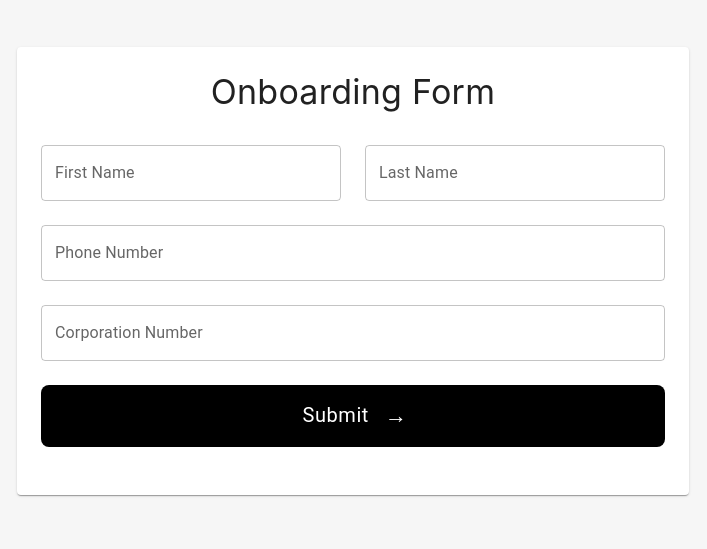
Scenario: OnboardingForm › shows validation errors for empty fields
Click the button "Submit →" at (353, 416), box [41,385,665,447]
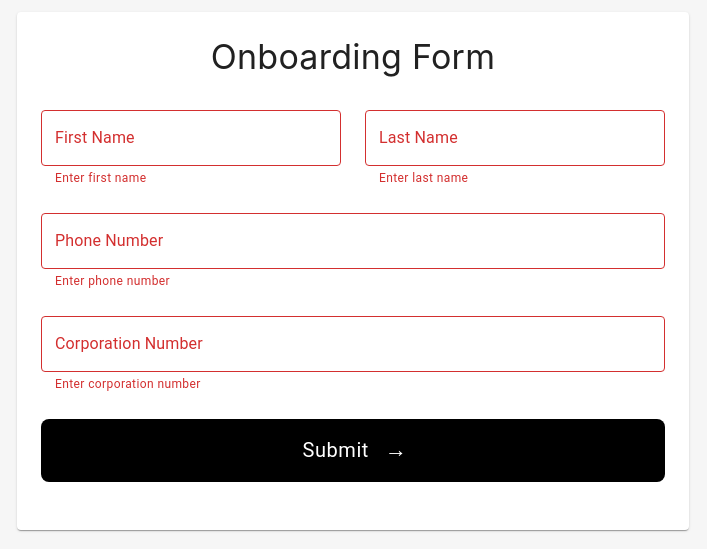
Check: the text "Enter first name" is shown, box [55,171,146,185]
